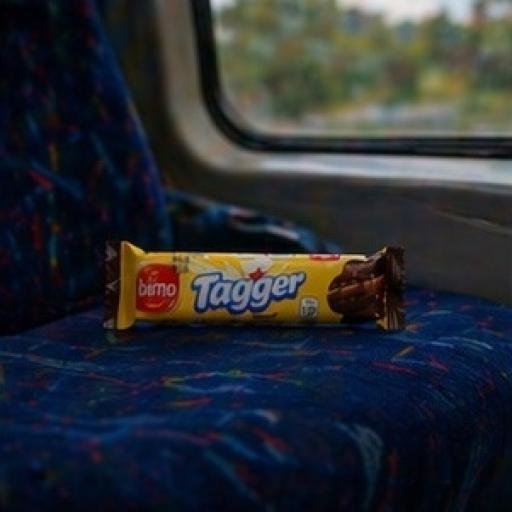tagger: (66, 172, 491, 408)
